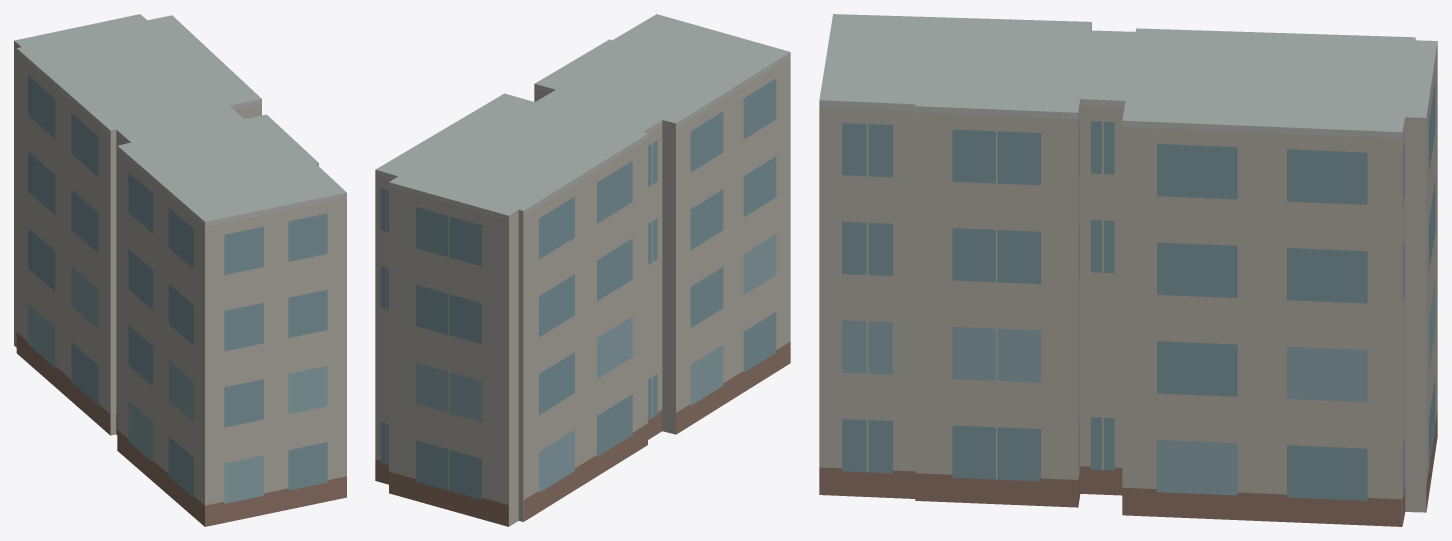
File: survey-upis-32672170.glb
The picture shows the model from 3 angles, left to right: view 1: azimuth 30°, elevation 25°; view 2: azimuth 150°, elevation 25°; view 3: azimuth 270°, elevation 25°; orthographic projection. The views are drawn at different scales.
Parts seen in each view (by area): view 1: survey-upis-32672170.tmp; view 2: survey-upis-32672170.tmp; view 3: survey-upis-32672170.tmp.
Part boxes in pixels (x1,y1,x2,y2): survey-upis-32672170.tmp: [14, 14, 346, 526]; survey-upis-32672170.tmp: [375, 14, 790, 526]; survey-upis-32672170.tmp: [819, 14, 1437, 526].
Size of the model in its own units: 9.77 by 15.2 by 21.59.
